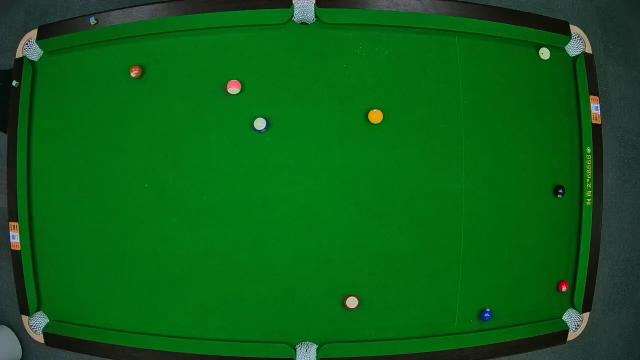bag1: (19, 36, 45, 64)
bag2: (292, 0, 316, 26)
bag3: (563, 30, 589, 57)
bag4: (25, 309, 51, 339)
bag5: (294, 340, 318, 360)
bag6: (560, 306, 586, 334)
ball0: (538, 48, 550, 60)
ball1: (368, 107, 384, 125)
ball10: (252, 116, 268, 134)
ball11: (344, 294, 360, 310)
ball12: (226, 78, 242, 96)
ball2: (479, 308, 493, 322)
ball3: (558, 280, 570, 294)
ball7: (128, 64, 144, 80)
ball8: (553, 184, 567, 200)
